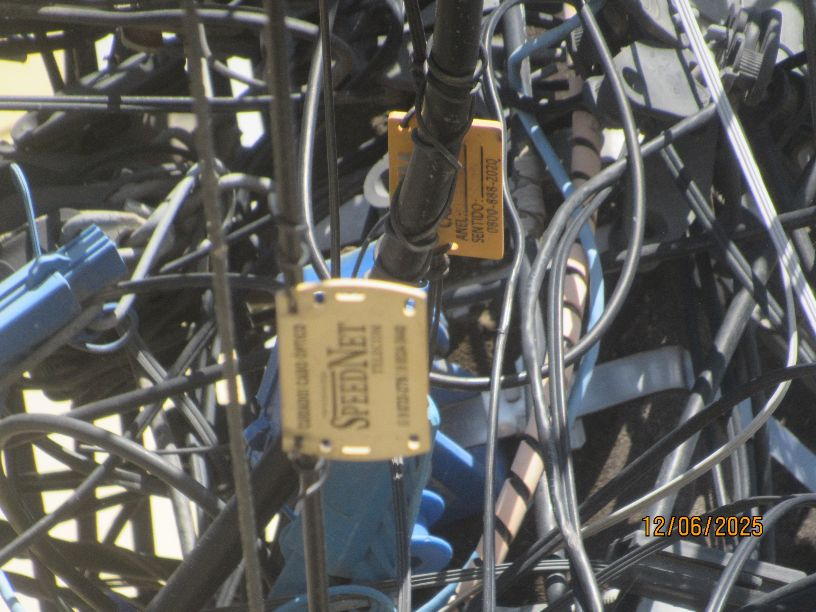fibra_optica: (261, 269, 456, 477)
